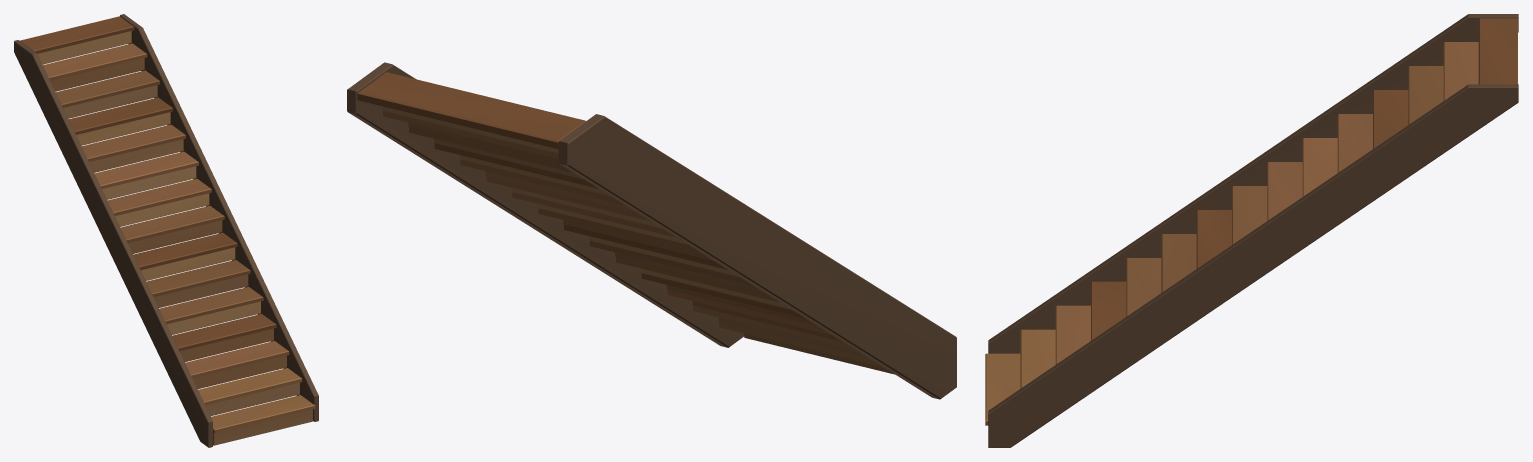
File: wood_stairs_01.glb
The picture shows the model from 3 angles, left to right: view 1: azimuth 30°, elevation 25°; view 2: azimuth 150°, elevation 25°; view 3: azimuth 270°, elevation 25°; orthographic projection. The views are drawn at different scales.
Visible parts, largest first — view 1: wood_stairs_01_body; view 2: wood_stairs_01_body; view 3: wood_stairs_01_body.
Boxes of the visible parts, bbox=[...] form: wood_stairs_01_body: bbox=[14, 14, 318, 447]; wood_stairs_01_body: bbox=[347, 62, 956, 399]; wood_stairs_01_body: bbox=[985, 14, 1518, 447].
Size of the model in its own units: 1.32 by 3.01 by 4.04.
